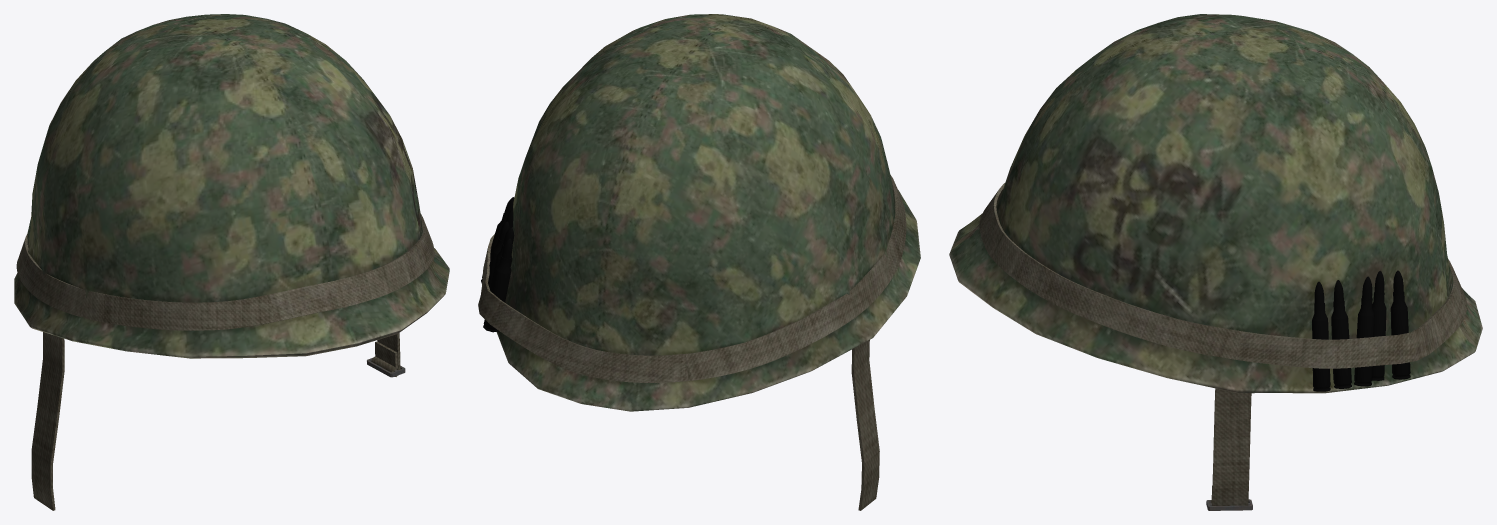
File: helmet_1.opt.glb
The picture shows the model from 3 angles, left to right: view 1: azimuth 30°, elevation 25°; view 2: azimuth 150°, elevation 25°; view 3: azimuth 270°, elevation 25°; orthographic projection. The views are drawn at different scales.
Visible parts, largest first — view 1: Object_4, Object_5, Object_2, Object_3; view 2: Object_4, Object_5, Object_2, Object_7; view 3: Object_4, Object_5, Object_7, Object_3.
Part boxes in pixels (<box>): Object_4: <box>14,14,449,358</box>; Object_5: <box>16,214,434,330</box>; Object_2: <box>31,332,64,510</box>; Object_3: <box>371,333,400,376</box>; Object_4: <box>496,14,920,411</box>; Object_5: <box>478,175,906,382</box>; Object_2: <box>851,340,879,510</box>; Object_7: <box>481,197,514,332</box>; Object_4: <box>949,14,1482,393</box>; Object_5: <box>979,183,1467,368</box>; Object_7: <box>1312,270,1410,391</box>; Object_3: <box>1211,388,1251,505</box>.
Size of the model in its own units: 0.2302 by 0.2553 by 0.2756.
Materials: 6 (5 with a texture image).
